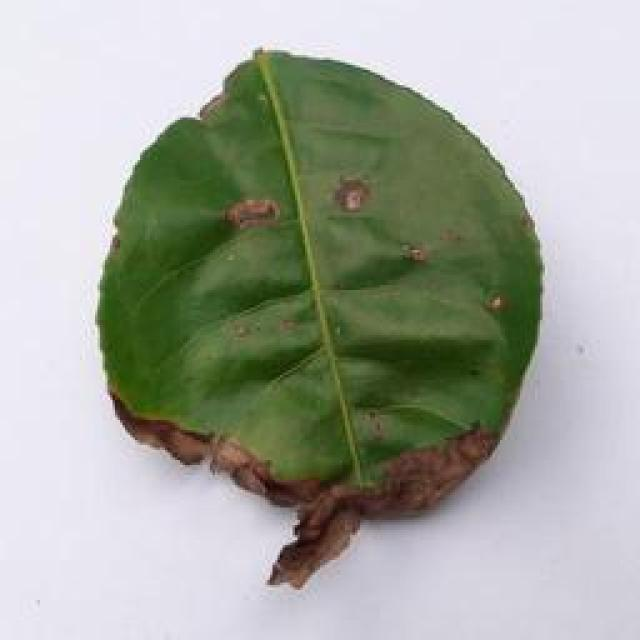Brown Blight: (76, 24, 552, 608)
